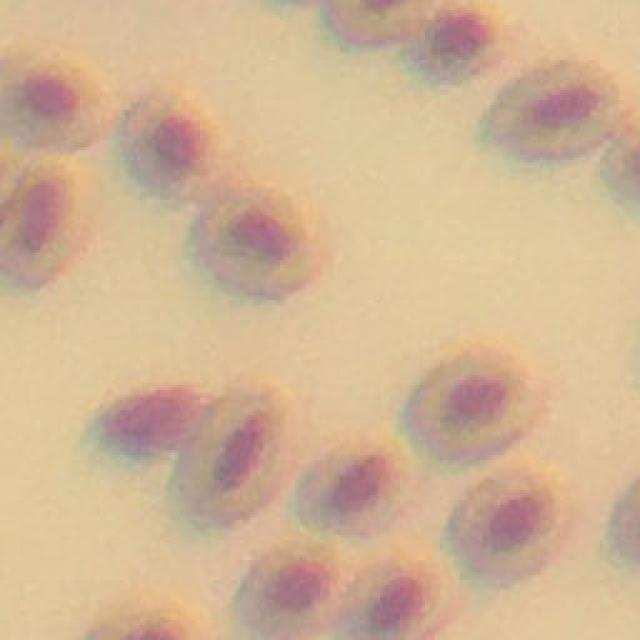RBC: (192, 175, 330, 301), (448, 462, 580, 588), (178, 390, 288, 528), (294, 431, 421, 545), (408, 350, 535, 462), (0, 155, 98, 290), (492, 62, 620, 160), (234, 537, 349, 640), (0, 47, 112, 152), (330, 551, 461, 640), (120, 87, 212, 199), (415, 2, 498, 85), (320, 0, 438, 47)
WBC: (102, 388, 210, 458)
